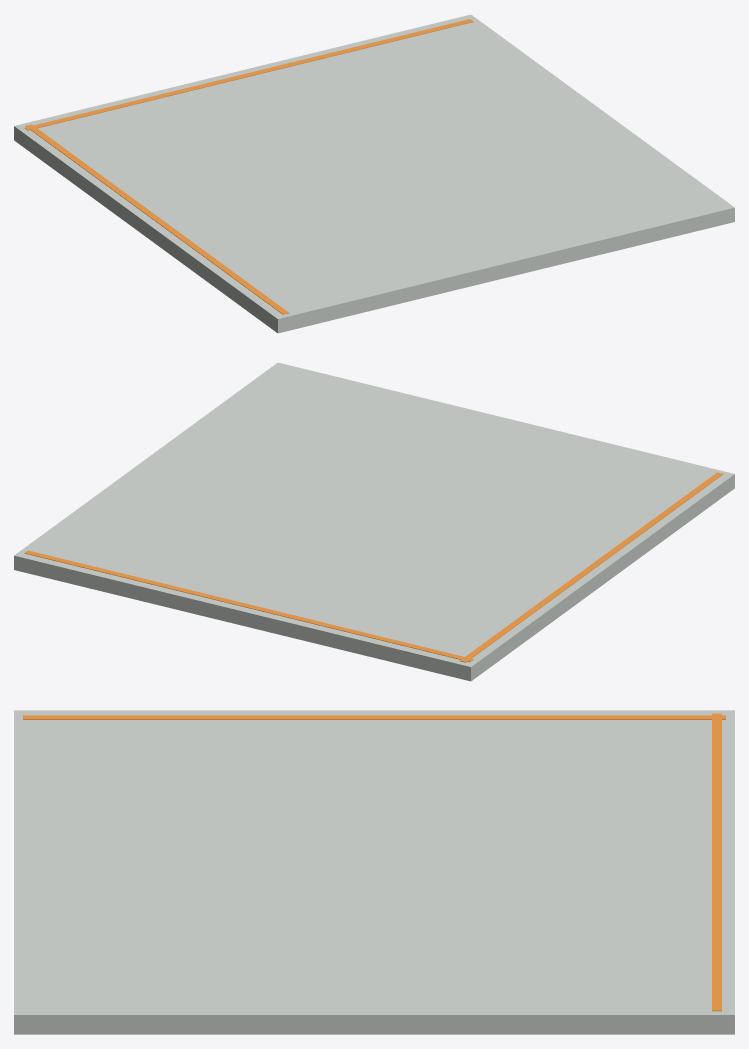
File: marked-factory-floor-module.glb
3 views of the same model, one above another, from view 1: azimuth 30°, elevation 25°; view 2: azimuth 150°, elevation 25°; view 3: azimuth 270°, elevation 25° (orthographic). The views are drawn at different scales.
Visible parts, largest first — view 1: cream, orange; view 2: cream, orange; view 3: cream, orange.
Part boxes in pixels (x1,y1,x2,y2): cream: [14, 14, 734, 333]; orange: [25, 19, 473, 314]; cream: [14, 362, 734, 681]; orange: [24, 472, 723, 662]; cream: [14, 710, 734, 1034]; orange: [23, 713, 725, 1011].
Bounding box in the file's own units: 4 × 0.124 × 4.
